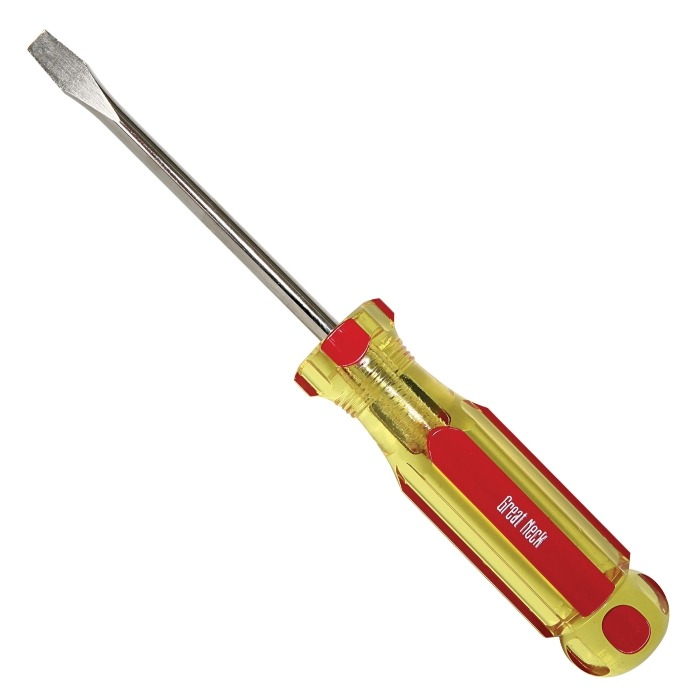screwdriver: (25, 22, 680, 685)
